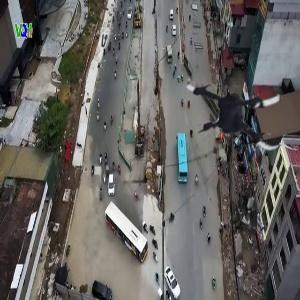drone: (183, 51, 300, 168)
